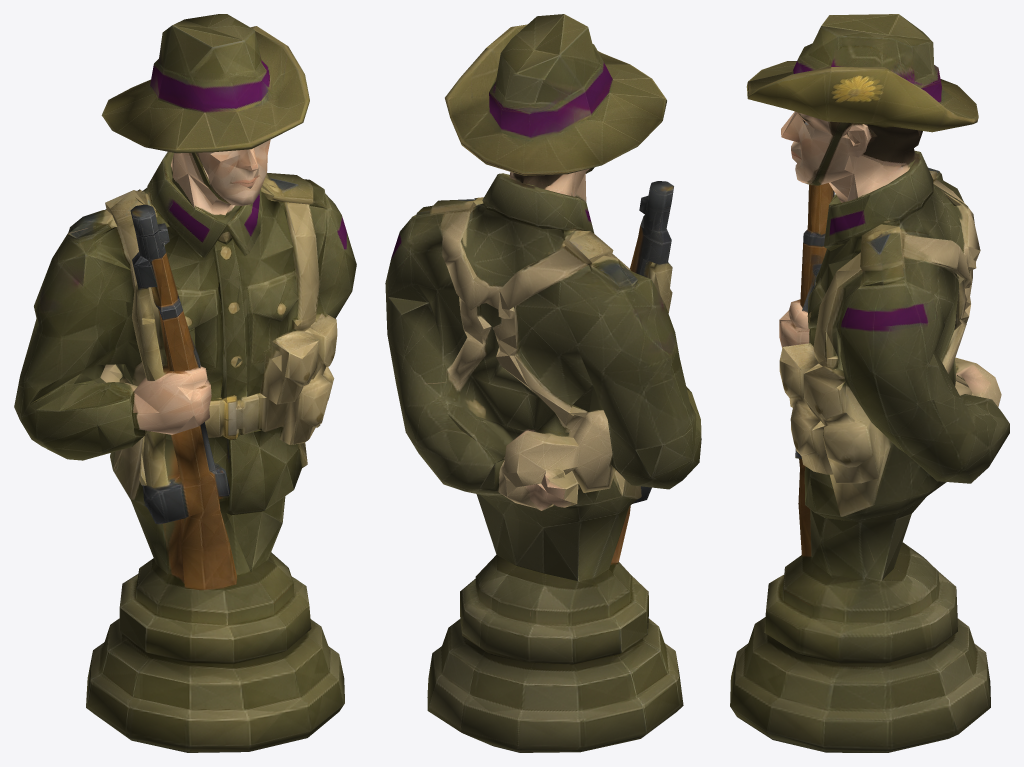
The model's file is anzac_pawn.glb.
3 renders of one model, left to right at view 1: azimuth 30°, elevation 25°; view 2: azimuth 150°, elevation 25°; view 3: azimuth 270°, elevation 25°, orthographic.
Bounding box in the file's own units: 0.981 × 2 × 0.7442.
Materials: 1 (1 with a texture image).
